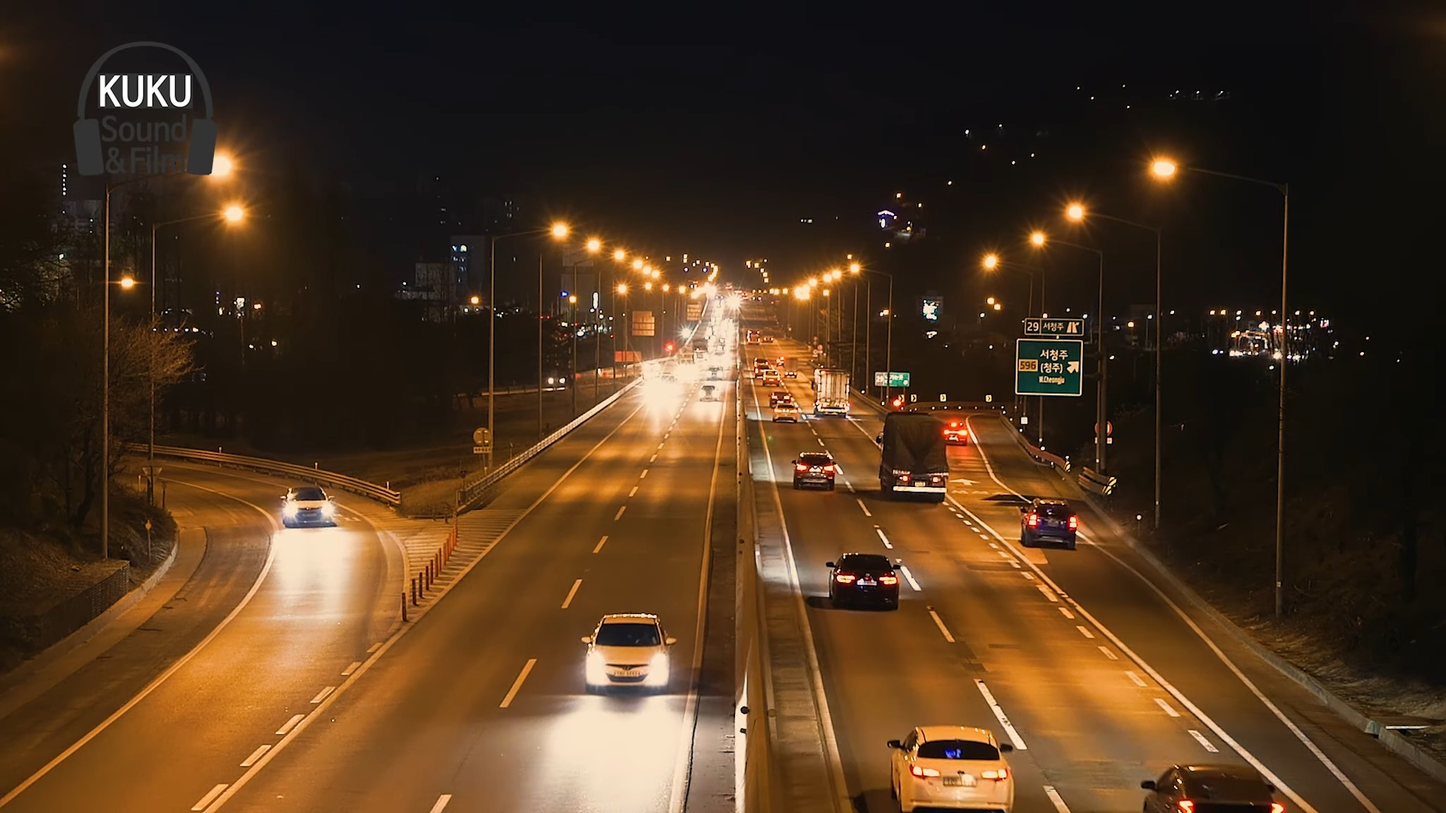car: (890, 718, 1018, 813), (579, 611, 671, 697), (826, 549, 904, 607), (1022, 494, 1079, 549), (283, 477, 333, 531), (789, 450, 838, 490)
truck: (878, 406, 952, 501)
